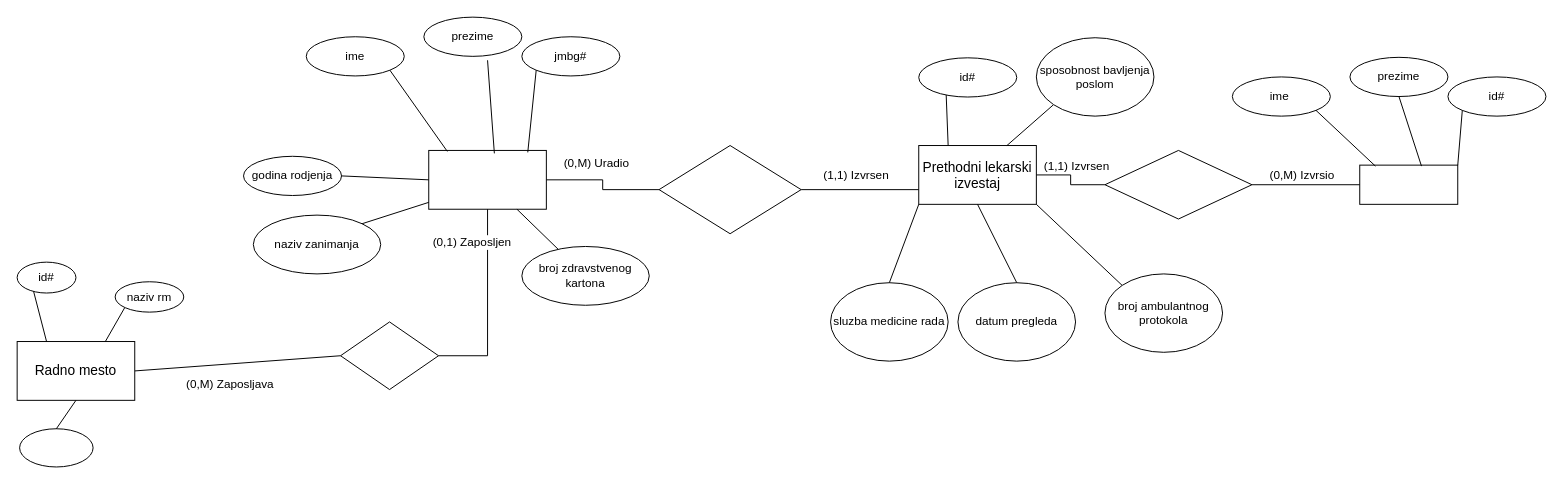
Image size: 1563x484. Some labels were removed from this diagram. The box of each missing label's shape, as (x1, y1, x2, y2) in pixels:
izvrsavanje lekarskog pregleda: (658, 145, 801, 234)
opis poslova: (19, 428, 93, 467)
Radi: (340, 321, 439, 390)
Specijalista medicine rada: (1359, 164, 1458, 204)
vrsenje pregleda: (1104, 149, 1252, 219)
Zaposleni: (428, 149, 546, 209)
